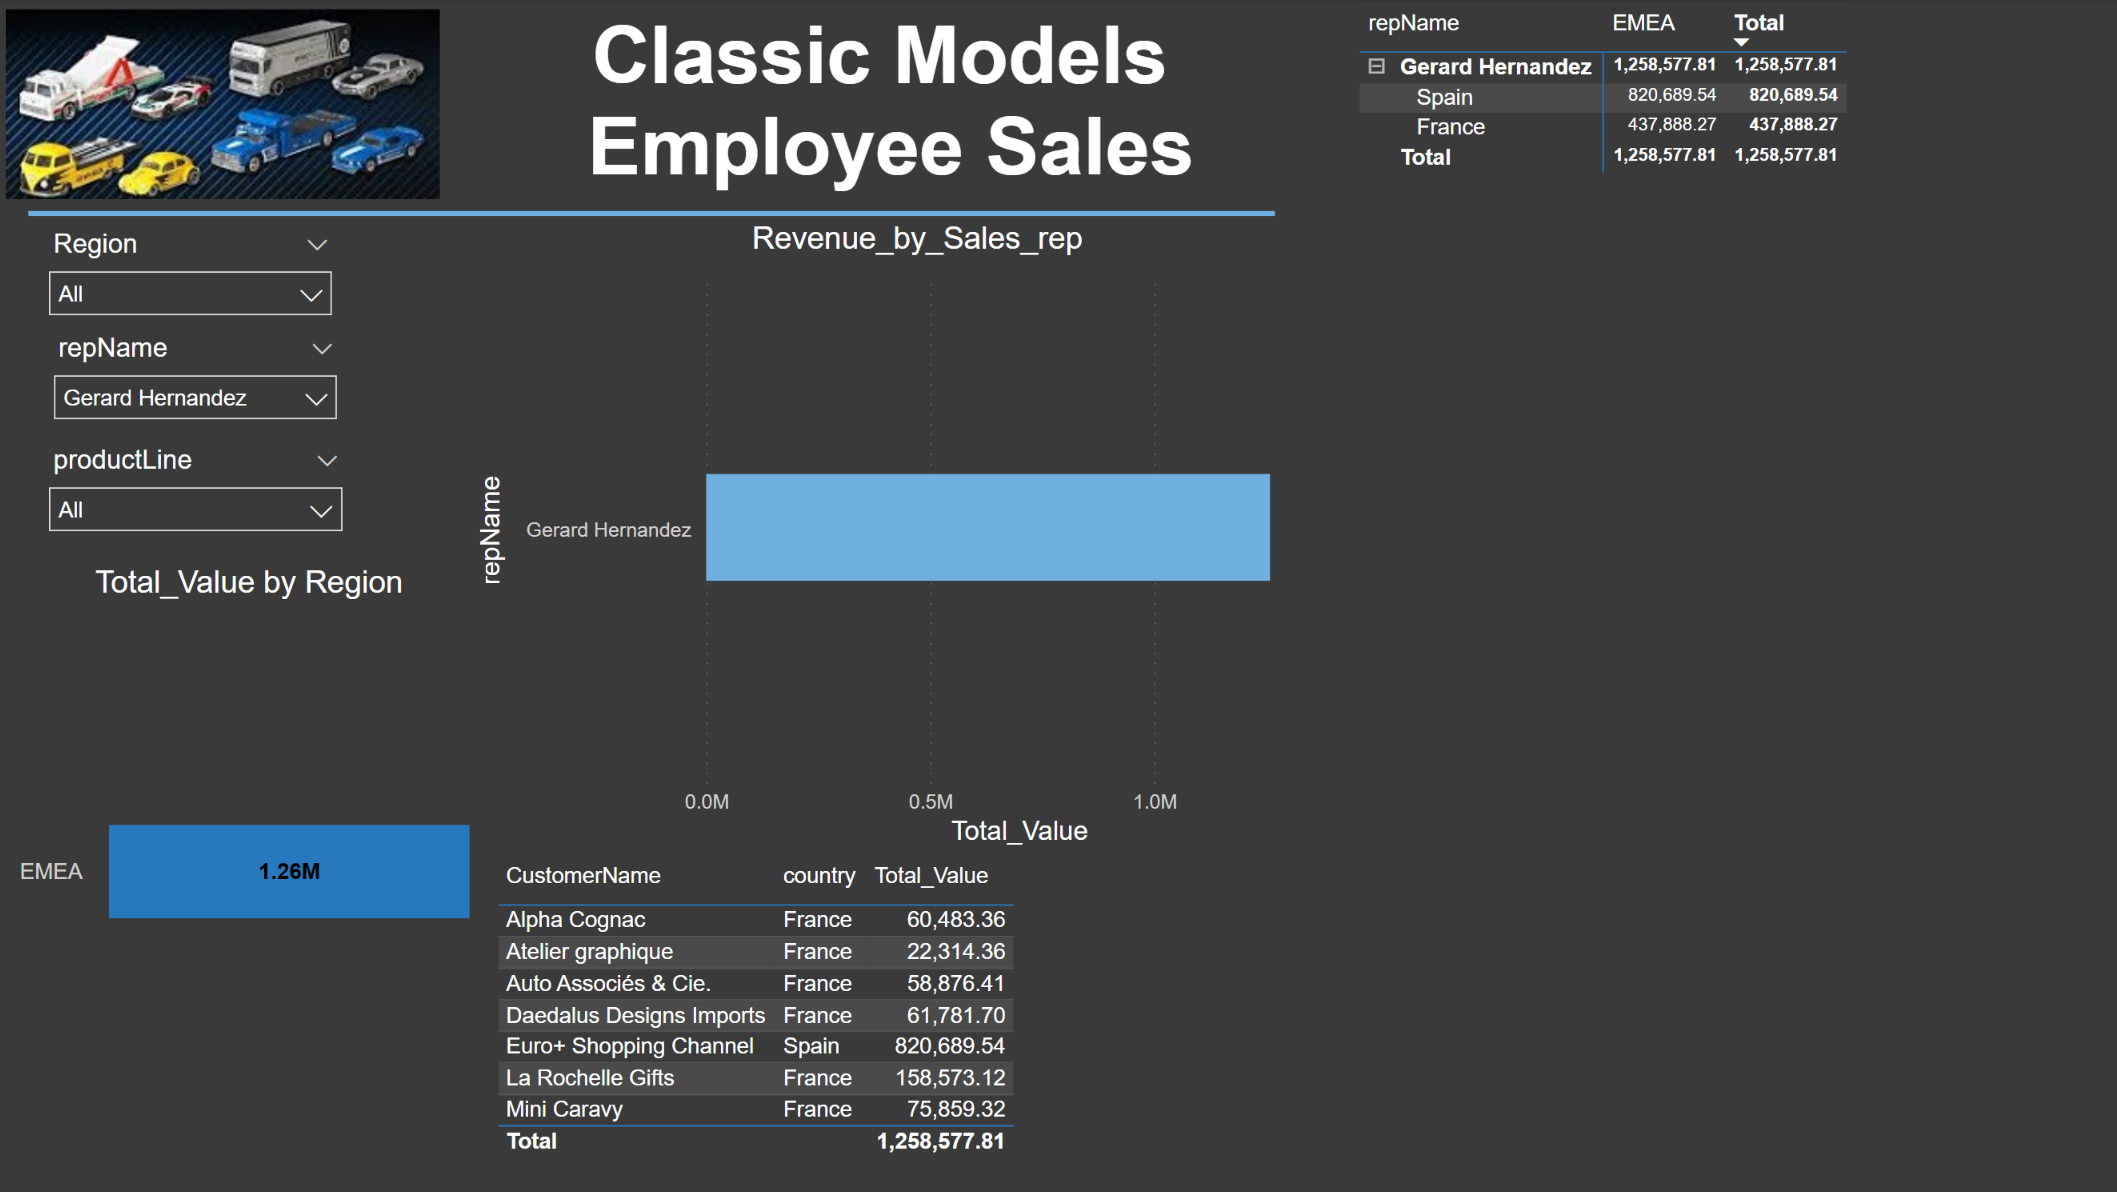

This screenshot's page, from the dashboard's own definition file:
{"tool":"powerbi","page":{"name":"Scenario4","canvas":[1280,720],"ordinal":3},"visuals":[{"type":"textbox","box":[271.6,1.3,532.7,123.7],"z":0},{"type":"image","box":[0,0,271.6,125],"z":1000},{"type":"basicShape","box":[8.5,111.2,771.5,34],"z":2000},{"type":"slicer","fields":{"Values":["Products.productLine"]},"box":[20.3,227.7,197,72.6],"z":3000},{"type":"donutChart","title":"Revenue_by_Sales_rep","fields":{"Category":["Customers.repName"],"Y":["Sum(Order_Details.Total_Value)"]},"box":[284.7,139.4,539.2,411.6],"z":4000},{"type":"slicer","fields":{"Values":["Customers.Region"]},"box":[20.3,145.3,191.1,62.8],"z":6000},{"type":"funnel","fields":{"Y":["Sum(Order_Details.Total_Value)"],"Category":["Customers.Region"]},"box":[8.5,340.3,286,347.5],"z":7000},{"type":"pivotTable","fields":{"Values":["Sum(Order_Details.Total_Value)"],"Rows":["Customers.repName","Customers.country"],"Columns":["Customers.Region"]},"box":[816,0,464,719.8],"z":8000}]}

Visuals, with their boxes in screenshot pixels (x1, y1, x2, y2), scaled from the page's 1280x720 canvas onto the 2117x1192 screenshot:
textbox: <bbox>449, 2, 1330, 207</bbox>
image: <bbox>0, 0, 449, 207</bbox>
basicShape: <bbox>14, 184, 1290, 240</bbox>
slicer - Products.productLine: <bbox>34, 377, 359, 497</bbox>
"Revenue_by_Sales_rep" donutChart: <bbox>471, 231, 1363, 912</bbox>
slicer - Customers.Region: <bbox>34, 241, 350, 345</bbox>
funnel - Sum(Order_Details.Total_Value) x Customers.Region: <bbox>14, 563, 487, 1139</bbox>
pivotTable - Sum(Order_Details.Total_Value) x Customers.repName: <bbox>1350, 0, 2116, 1191</bbox>
